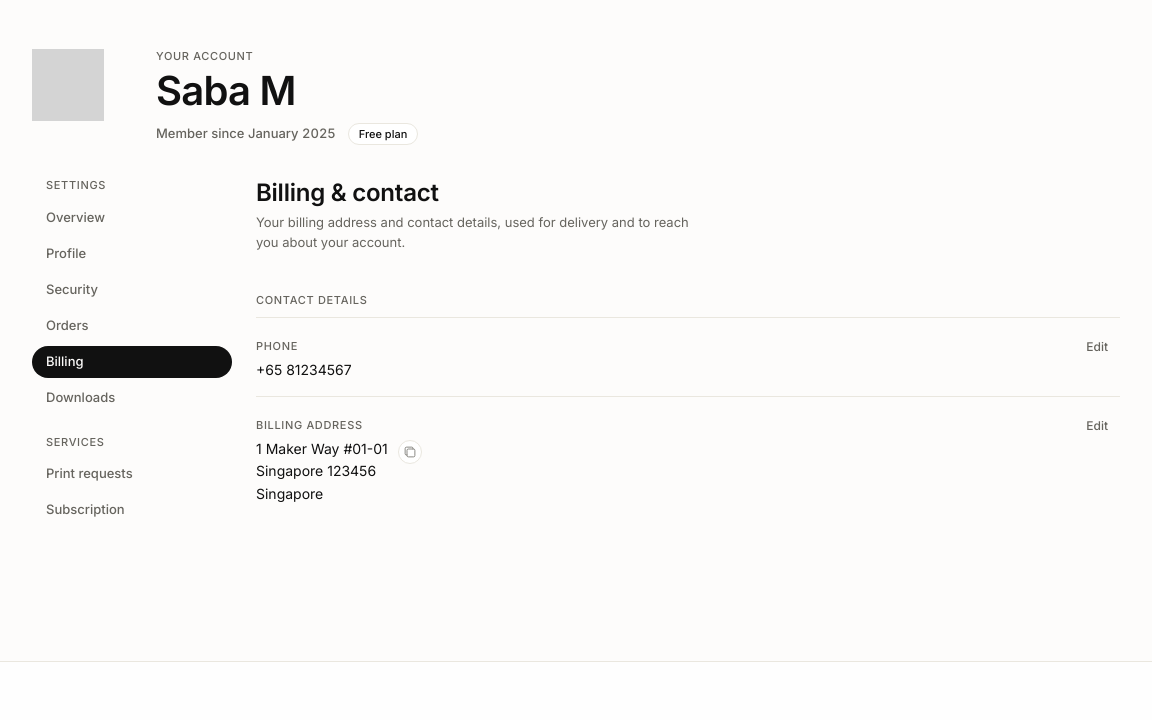
Test: Account hub › ?tab=billing deep link lands on the contact rows with view values + per-row edit (the cart links here)
Check: the heading "Billing & contact" is shown, box [256,178,439,207]
Check: the text "+65 81234567" is shown, box [256,360,352,378]
Note: The phone row morphs in place into its inputs.
Click the button with aria-label "Edit phone" at (1097,346), box [1074,334,1120,360]
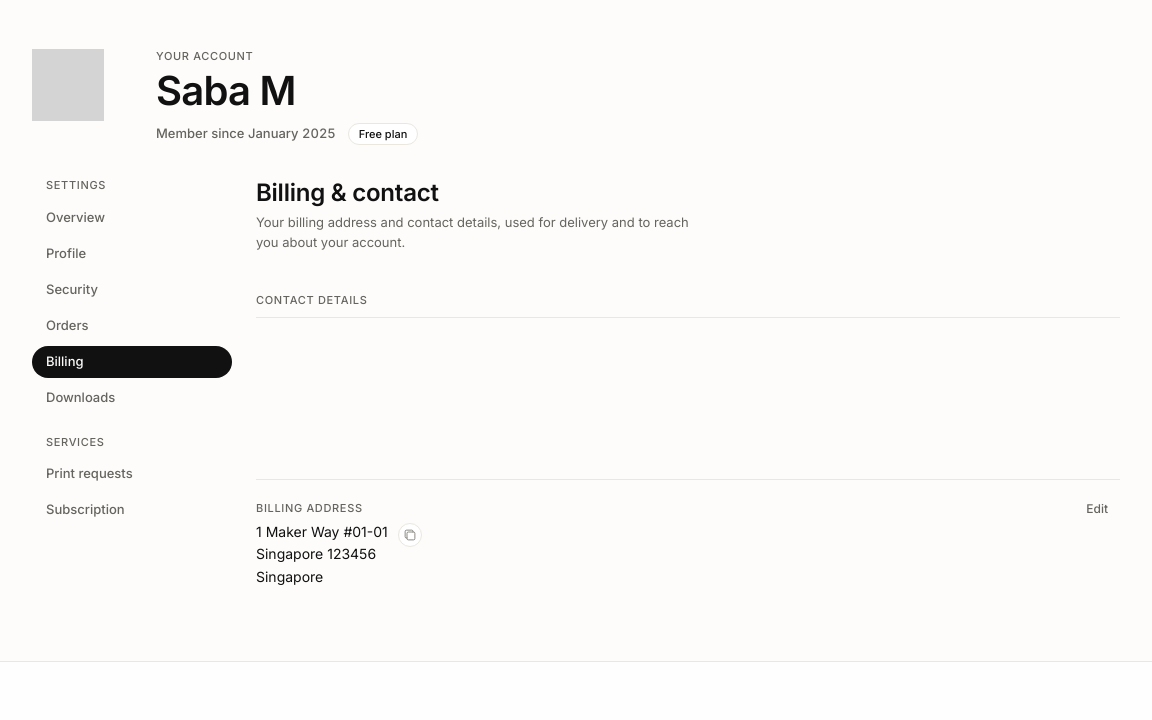
Note: The address row exposes every address field.
Click the button with aria-label "Edit billing address" at (1097,508), box [1074,496,1120,522]
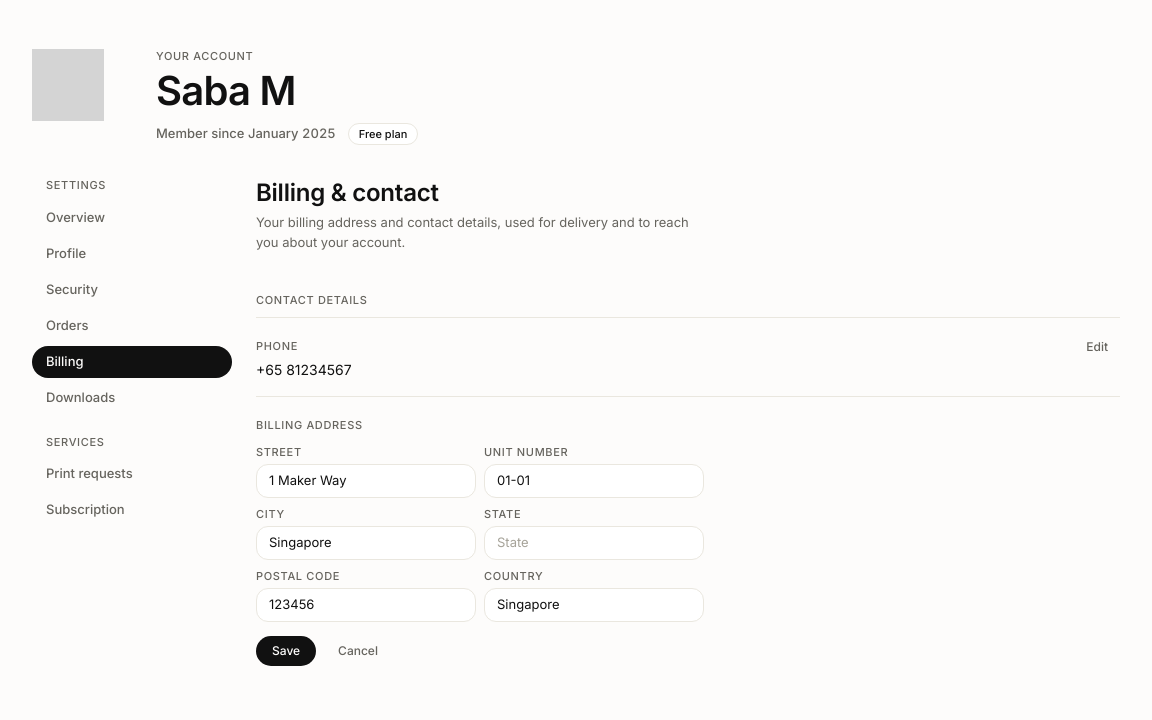
Check: the text "Street" is shown, box [256,444,302,458]
Check: the text "Unit number" is shown, box [484,444,568,458]
Check: the text "City" is shown, box [256,506,285,520]
